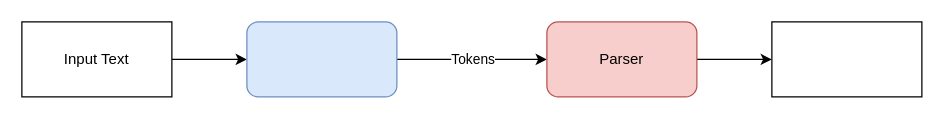
Some shapes in this 944 by 119 pixel diagram are drawn without their labels. Each missing label, with the centre of its shape:
"Lexer" goes at point (321, 59).
"Parse Tree" goes at point (846, 59).
